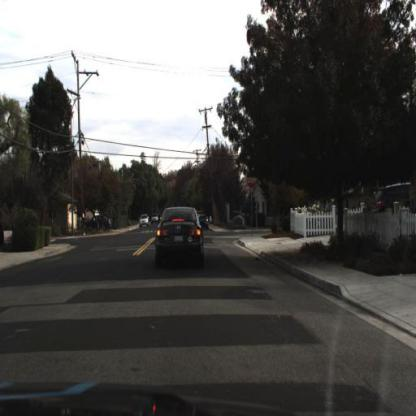car: (150, 203, 210, 274), (368, 180, 413, 217), (83, 208, 116, 235), (135, 207, 150, 234), (197, 211, 211, 232), (149, 209, 161, 227)
